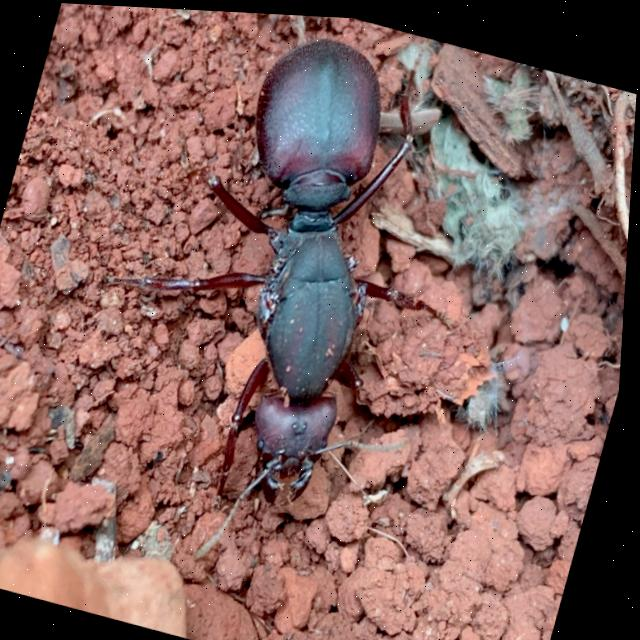Alive-Female-Dealate: (40, 3, 525, 607)
